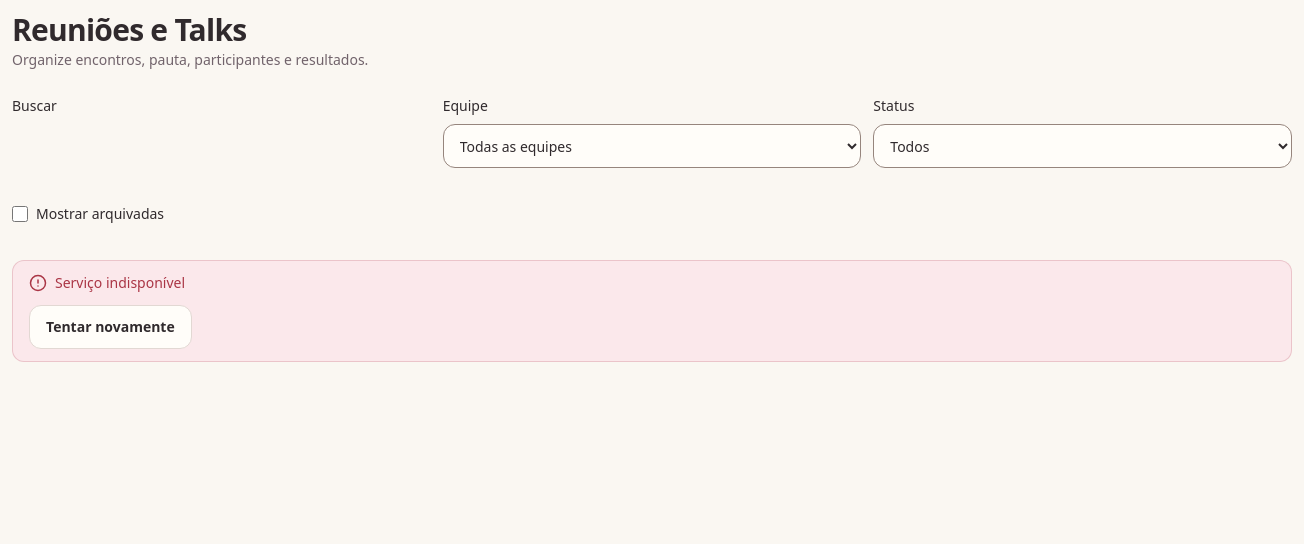
vazio e erro têm retorno útil
The image size is (1304, 544).
Check: the text "Serviço indisponível" is shown, box [29,273,185,292]
Click the button "Tentar novamente". click: point(110, 327)
box: [29,305,192,349]
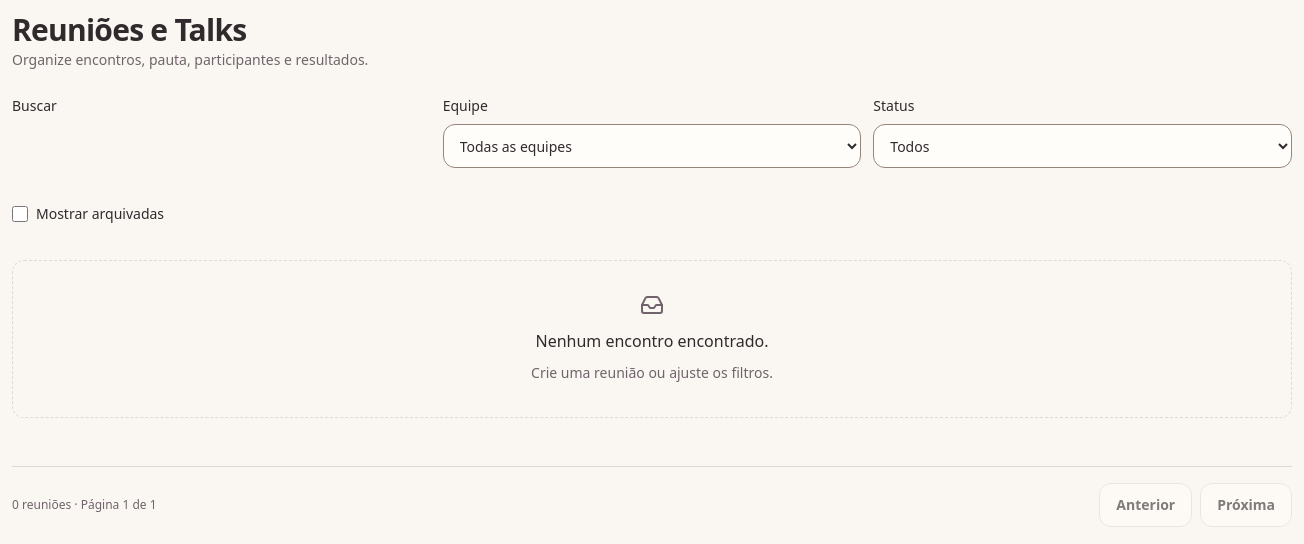
Check: the heading "Nenhum encontro encontrado." is shown, box [536,330,768,352]
